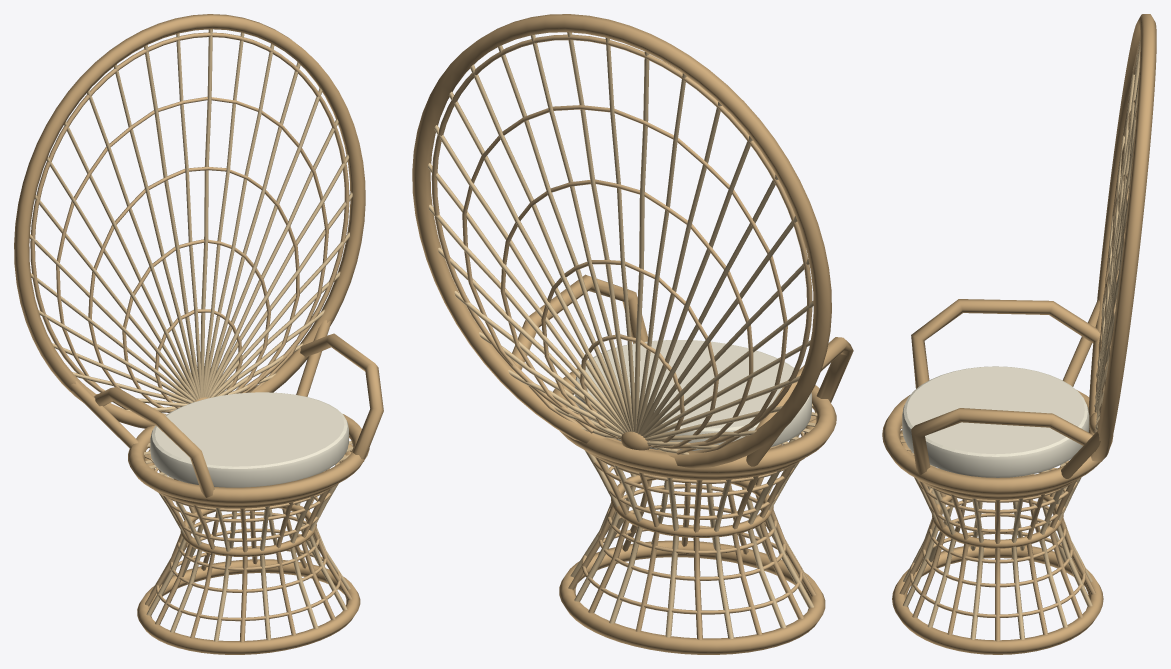
The model's file is wicker_peacock_chair.glb.
The picture shows the model from 3 angles, left to right: view 1: azimuth 30°, elevation 25°; view 2: azimuth 150°, elevation 25°; view 3: azimuth 270°, elevation 25°; orthographic projection. The views are drawn at different scales.
Parts seen in each view (by area): view 1: Peacock chair tall broad outer fan rim, Peacock chair oval seat cushion, Peacock chair grounded base ring, Peacock chair oval seat rim, Peacock chair inner decorative oval, Peacock chair curved fan cross weave 4, Peacock chair curved arm 1, Peacock chair curved arm -1, Peacock chair curved fan cross weave 3, Peacock chair radiating woven spoke 15, Peacock chair radiating woven spoke 13, Peacock chair radiating woven spoke 16 (+39 smaller); view 2: Peacock chair tall broad outer fan rim, Peacock chair oval seat cushion, Peacock chair grounded base ring, Peacock chair inner decorative oval, Peacock chair oval seat rim, Peacock chair curved fan cross weave 4, Peacock chair curved fan cross weave 3, Peacock chair radiating woven spoke 15, Peacock chair radiating woven spoke 17, Peacock chair radiating woven spoke 13, Peacock chair curved arm 1, Peacock chair radiating woven spoke 18 (+39 smaller); view 3: Peacock chair oval seat cushion, Peacock chair tall broad outer fan rim, Peacock chair grounded base ring, Peacock chair oval seat rim, Peacock chair curved arm -1, Peacock chair curved arm 1, Peacock chair waist ring, Peacock chair woven pedestal tie, Peacock chair woven pedestal tie.001, Peacock chair fan lower brace, Peacock chair pedestal cane 00, Peacock chair pedestal cane 23 (+20 smaller).
Boxes of the visible parts, bbox=[...] form: Peacock chair tall broad outer fan rim: bbox=[14, 14, 365, 428]; Peacock chair oval seat cushion: bbox=[150, 392, 348, 487]; Peacock chair grounded base ring: bbox=[137, 559, 360, 654]; Peacock chair oval seat rim: bbox=[128, 414, 369, 504]; Peacock chair inner decorative oval: bbox=[30, 32, 349, 412]; Peacock chair curved fan cross weave 4: bbox=[56, 96, 328, 409]; Peacock chair curved arm 1: bbox=[300, 333, 383, 461]; Peacock chair curved arm -1: bbox=[94, 387, 214, 499]; Peacock chair curved fan cross weave 3: bbox=[88, 166, 299, 414]; Peacock chair radiating woven spoke 15: bbox=[200, 29, 212, 393]; Peacock chair radiating woven spoke 13: bbox=[144, 45, 201, 397]; Peacock chair radiating woven spoke 16: bbox=[202, 32, 244, 397]; Peacock chair tall broad outer fan rim: bbox=[412, 14, 831, 469]; Peacock chair oval seat cushion: bbox=[575, 340, 811, 450]; Peacock chair grounded base ring: bbox=[559, 540, 825, 654]; Peacock chair inner decorative oval: bbox=[431, 34, 812, 449]; Peacock chair oval seat rim: bbox=[553, 368, 836, 475]; Peacock chair curved fan cross weave 4: bbox=[462, 105, 787, 452]; Peacock chair curved fan cross weave 3: bbox=[500, 179, 753, 454]; Peacock chair radiating woven spoke 15: bbox=[567, 32, 634, 431]; Peacock chair radiating woven spoke 17: bbox=[498, 45, 632, 431]; Peacock chair radiating woven spoke 13: bbox=[634, 52, 649, 432]; Peacock chair curved arm 1: bbox=[509, 274, 647, 373]; Peacock chair radiating woven spoke 18: bbox=[470, 64, 628, 427]; Peacock chair oval seat cushion: bbox=[902, 366, 1089, 477]; Peacock chair tall broad outer fan rim: bbox=[1088, 14, 1156, 462]; Peacock chair grounded base ring: bbox=[892, 545, 1103, 654]; Peacock chair oval seat rim: bbox=[882, 390, 1113, 495]; Peacock chair curved arm -1: bbox=[911, 299, 1100, 388]; Peacock chair curved arm 1: bbox=[911, 408, 1098, 477]; Peacock chair waist ring: bbox=[932, 494, 1063, 548]; Peacock chair woven pedestal tie: bbox=[909, 532, 1085, 617]; Peacock chair woven pedestal tie.001: bbox=[922, 513, 1073, 587]; Peacock chair fan lower brace: bbox=[1062, 300, 1099, 386]; Peacock chair pedestal cane 00: bbox=[995, 500, 1000, 641]; Peacock chair pedestal cane 23: bbox=[970, 498, 983, 639].
Size of the model in its own units: 1.04 by 1.54 by 0.6698.
